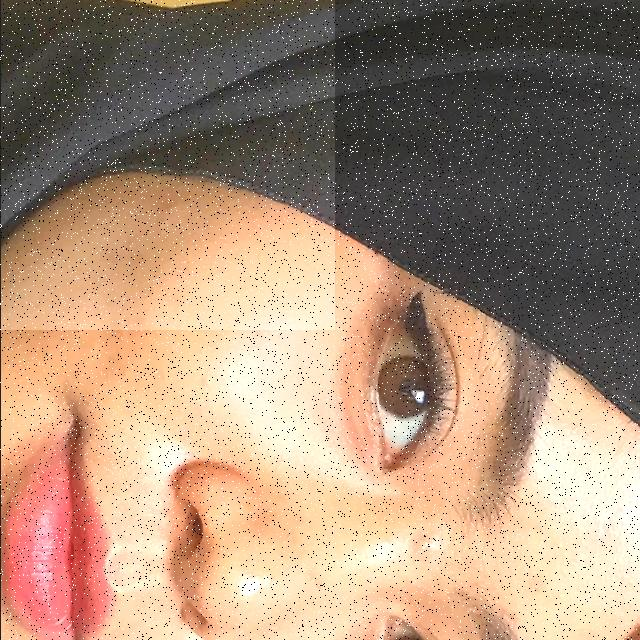kapan: (0, 0, 334, 330)
